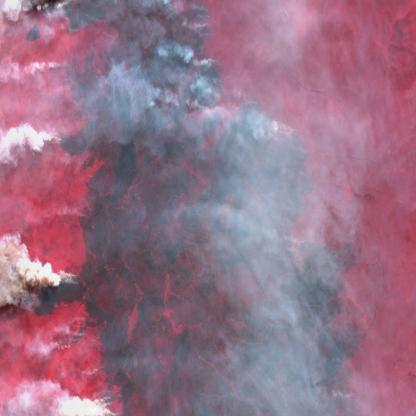fire: (24, 0, 122, 416), (241, 100, 318, 265), (177, 0, 226, 142)
